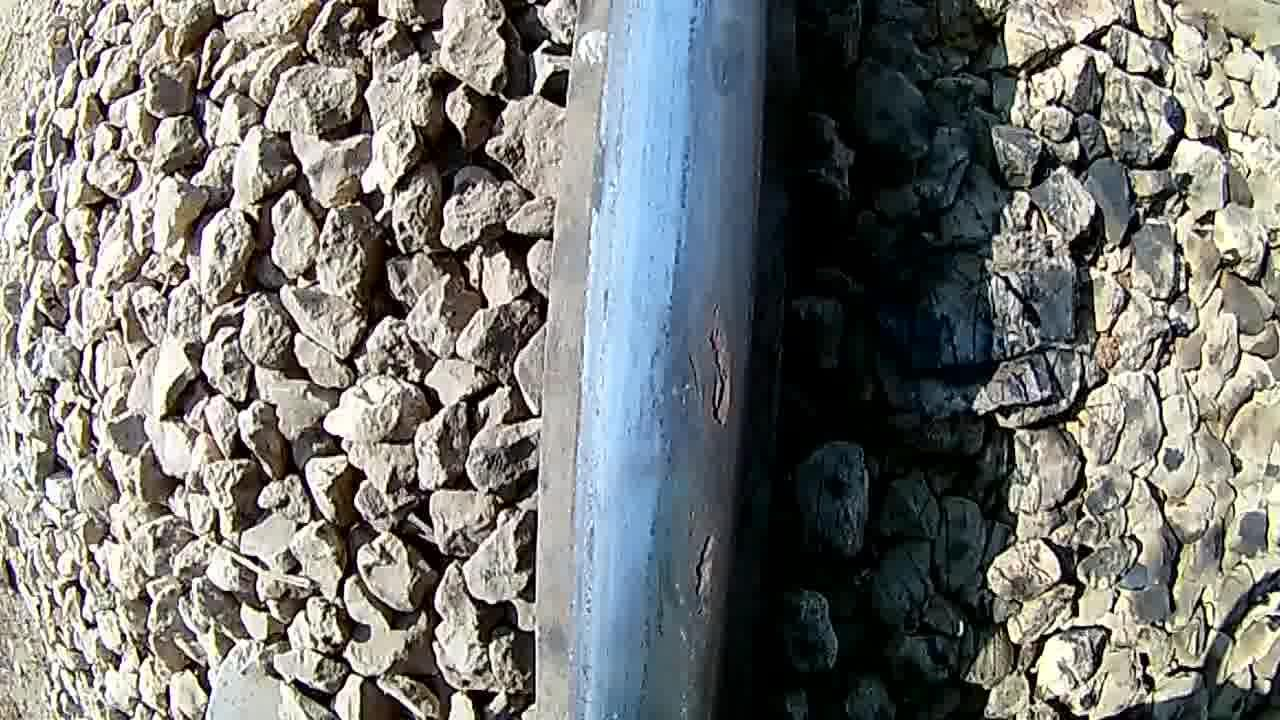crack: (616, 1, 756, 720)
